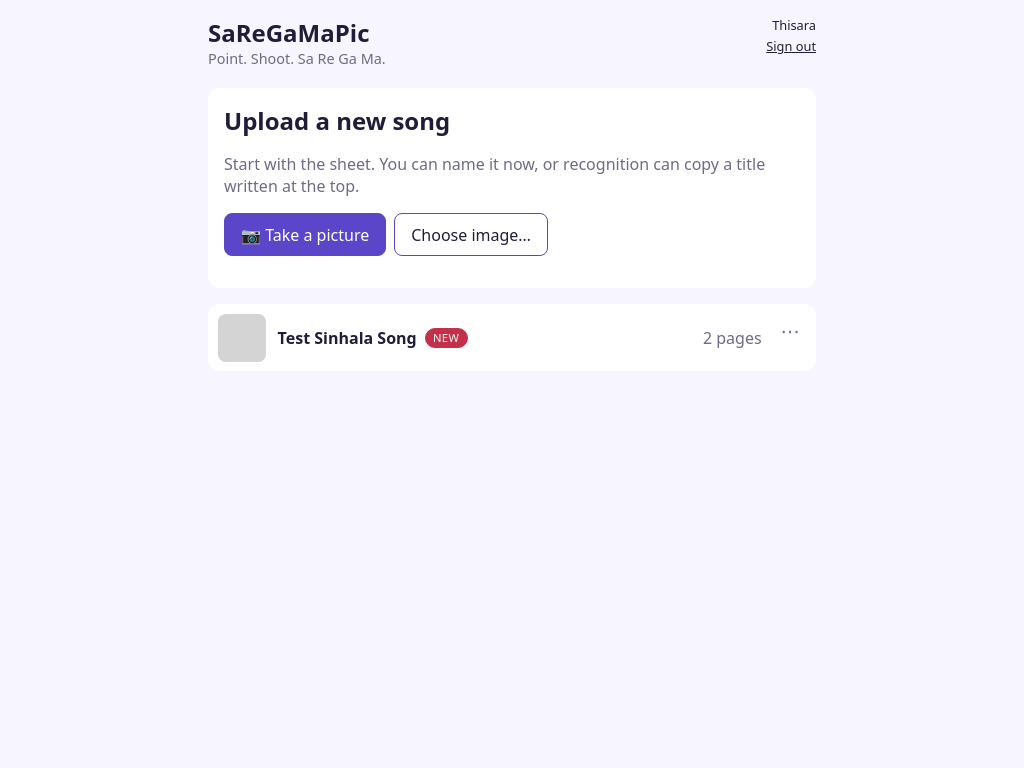
Test case: App › closes the menu on a tap outside it
The width and height of the screenshot is (1024, 768).
Check: the text "Test Sinhala Song" is shown, box [278,327,417,349]
Click the button named "Actions for Test Sinhala Song" at (790, 330), box [768,308,812,352]
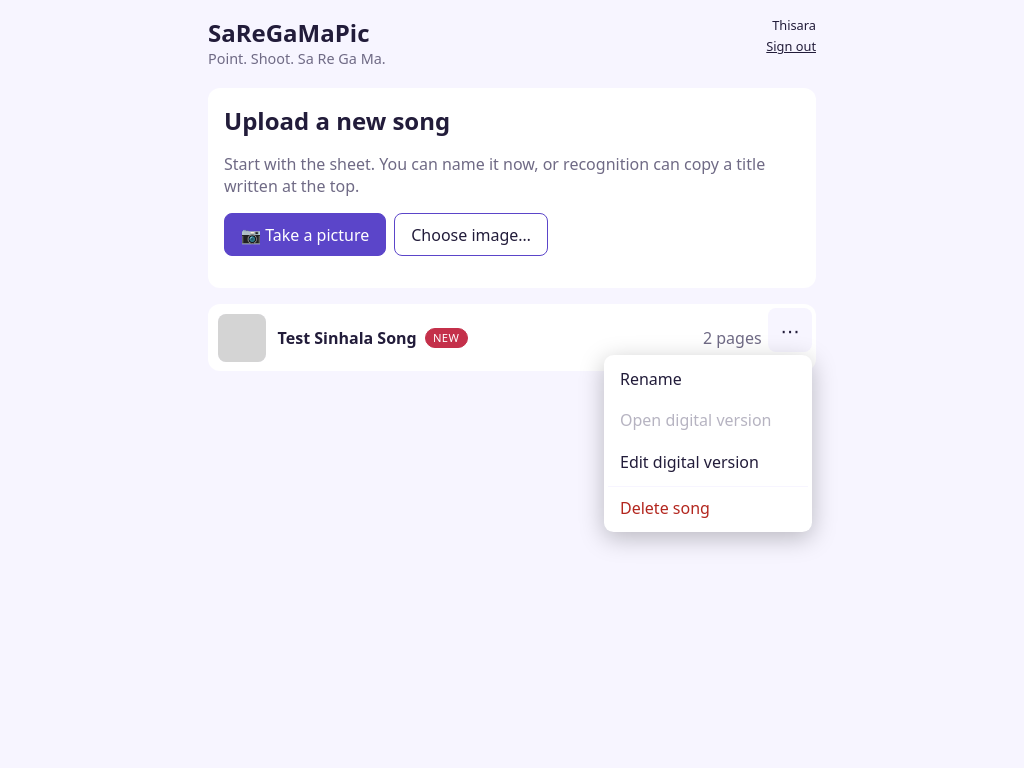
Check: the menu item "Rename" is shown, box [608,359,808,400]
Press the mouse on the element that starts with "SaReGaMaPic" at (512, 186), box [0,0,1023,371]
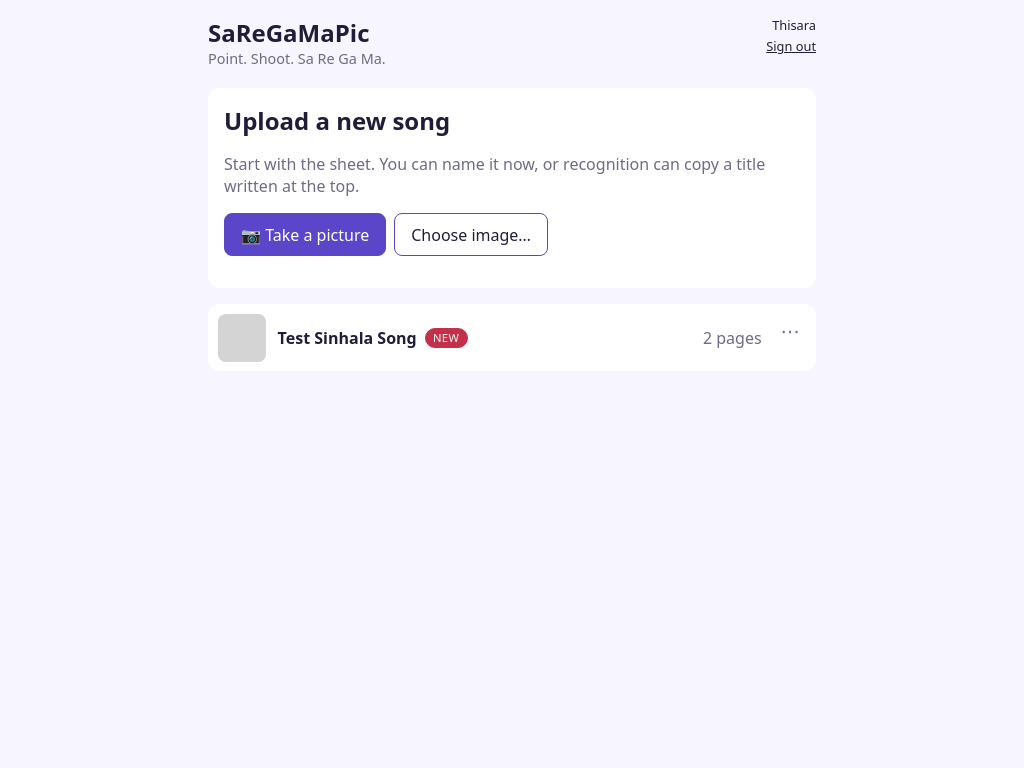
Check: the menu item "Rename" is gone
